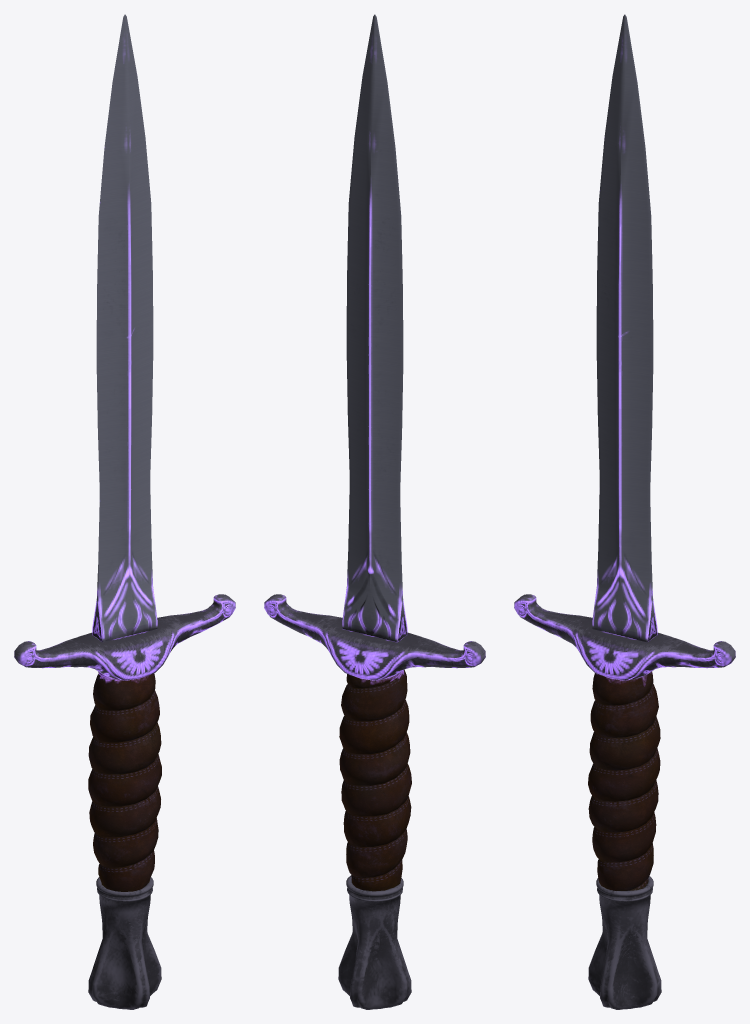
The model's file is ornate_medieval_dagger-v02.glb.
3 renders of one model, left to right at view 1: azimuth 30°, elevation 25°; view 2: azimuth 150°, elevation 25°; view 3: azimuth 330°, elevation 25°, orthographic.
Visible parts, largest first — view 1: ornate_medieval_dagger; view 2: ornate_medieval_dagger; view 3: ornate_medieval_dagger.
Part boxes in pixels (<box>): ornate_medieval_dagger: <box>14,14,235,1009</box>; ornate_medieval_dagger: <box>264,14,485,1009</box>; ornate_medieval_dagger: <box>514,14,735,1009</box>.
Bounding box in the file's own units: 0.0798 × 0.3459 × 0.025.
1 material, 1 textured.
